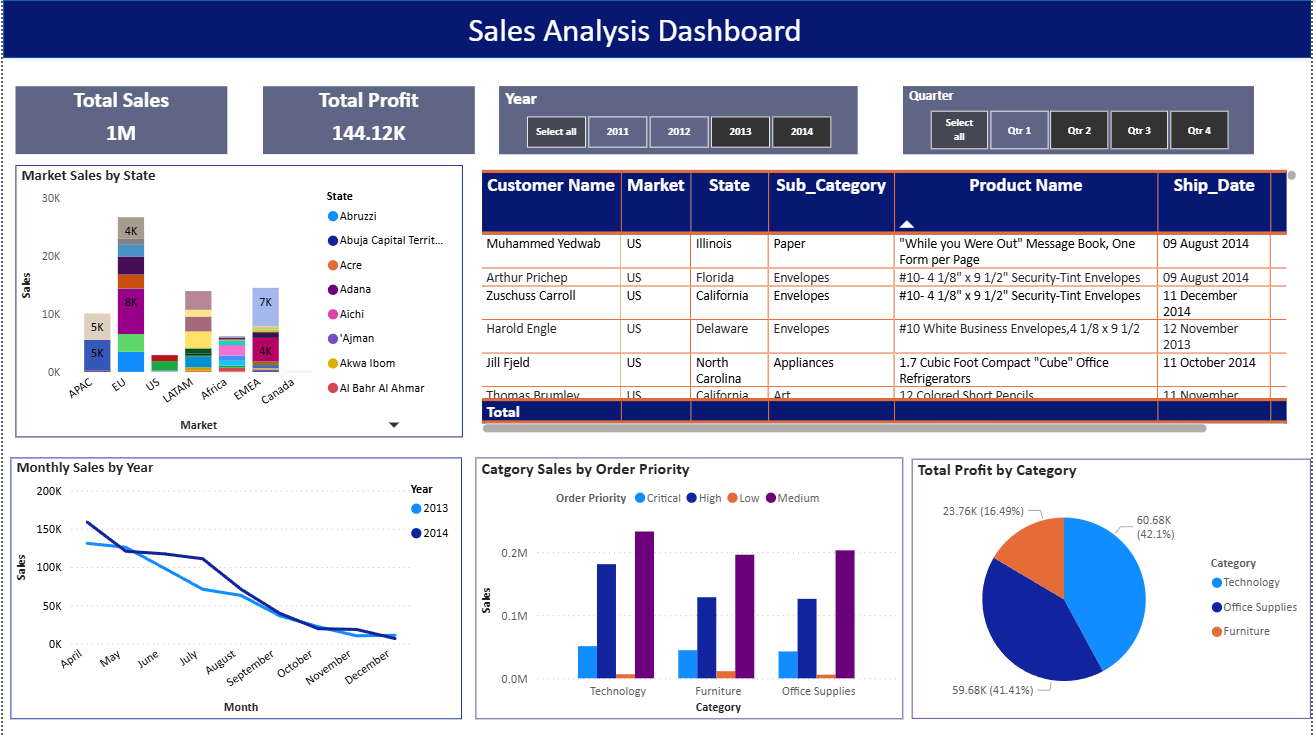

What the dashboard file says about the page in this screenshot:
{"tool":"powerbi","page":{"name":"SalesAnalysis","canvas":[1280,720],"ordinal":0},"visuals":[{"type":"card","title":"Total Sales","fields":{"Values":["Sum(SuperStoreOrders2.sales)"]},"box":[12.8,84.9,207,66.3],"z":0},{"type":"card","title":"Total Profit","fields":{"Values":["Sum(SuperStoreOrders2.profit)"]},"box":[254.7,84.9,207,66.3],"z":1000},{"type":"slicer","title":"Year","fields":{"Values":["SuperStoreOrders2.year"]},"box":[486,84.9,350,66.3],"z":2000},{"type":"tableEx","fields":{"Values":["SuperStoreOrders2.customer_name","SuperStoreOrders2.market","SuperStoreOrders2.state","SuperStoreOrders2.sub_category","SuperStoreOrders2.product_name","SuperStoreOrders2.ship_date","Sum(SuperStoreOrders2.sales)"]},"box":[462,161.1,807.9,267],"z":3000},{"type":"columnChart","title":"Market Sales by State","fields":{"Y":["Sum(SuperStoreOrders2.sales)"],"Category":["SuperStoreOrders2.market"],"Series":["SuperStoreOrders2.state"]},"box":[12.3,161.9,437.7,266.2],"z":4000},{"type":"lineChart","title":"Monthly Sales by Year","fields":{"Y":["Sum(SuperStoreOrders2.sales)"],"Series":["SuperStoreOrders2.order_date.Variation.Date Hierarchy.Year"],"Category":["SuperStoreOrders2.order_date.Variation.Date Hierarchy.Month"]},"box":[7.9,447.3,441.7,255.8],"z":5000},{"type":"slicer","title":"Quarter","fields":{"Values":["SuperStoreOrders2.order_date.Variation.Date Hierarchy.Quarter"]},"box":[880.2,84.9,343,66.3],"z":6000},{"type":"clusteredColumnChart","title":"Catgory Sales by Order Priority","fields":{"Category":["SuperStoreOrders2.category"],"Y":["Sum(SuperStoreOrders2.sales)"],"Series":["SuperStoreOrders2.order_priority"]},"box":[461.6,447.7,418.6,255.8],"z":7000},{"type":"pieChart","title":"Total Profit by Category","fields":{"Category":["SuperStoreOrders2.category"],"Y":["Sum(SuperStoreOrders2.profit)"]},"box":[889.5,448.8,390.7,254.7],"z":8000},{"type":"shape","box":[0,0,1280.2,57],"z":9000},{"type":"textbox","title":"Sales Analysis Dashboard","box":[372.1,9.3,493,38.4],"z":10000}]}

Visuals, with their boxes in screenshot pixels (x1, y1, x2, y2), scaled from the page's 1280x720 canvas onto the 1316x736 screenshot:
"Total Sales" card: x1=13 y1=87 x2=226 y2=155
"Total Profit" card: x1=262 y1=87 x2=475 y2=155
"Year" slicer: x1=500 y1=87 x2=860 y2=155
tableEx - SuperStoreOrders2.customer_name x SuperStoreOrders2.market: x1=475 y1=165 x2=1306 y2=438
"Market Sales by State" columnChart: x1=13 y1=165 x2=463 y2=438
"Monthly Sales by Year" lineChart: x1=8 y1=457 x2=462 y2=719
"Quarter" slicer: x1=905 y1=87 x2=1258 y2=155
"Catgory Sales by Order Priority" clusteredColumnChart: x1=475 y1=458 x2=905 y2=719
"Total Profit by Category" pieChart: x1=915 y1=459 x2=1315 y2=719
shape: x1=0 y1=0 x2=1315 y2=58
"Sales Analysis Dashboard" textbox: x1=383 y1=10 x2=889 y2=49
